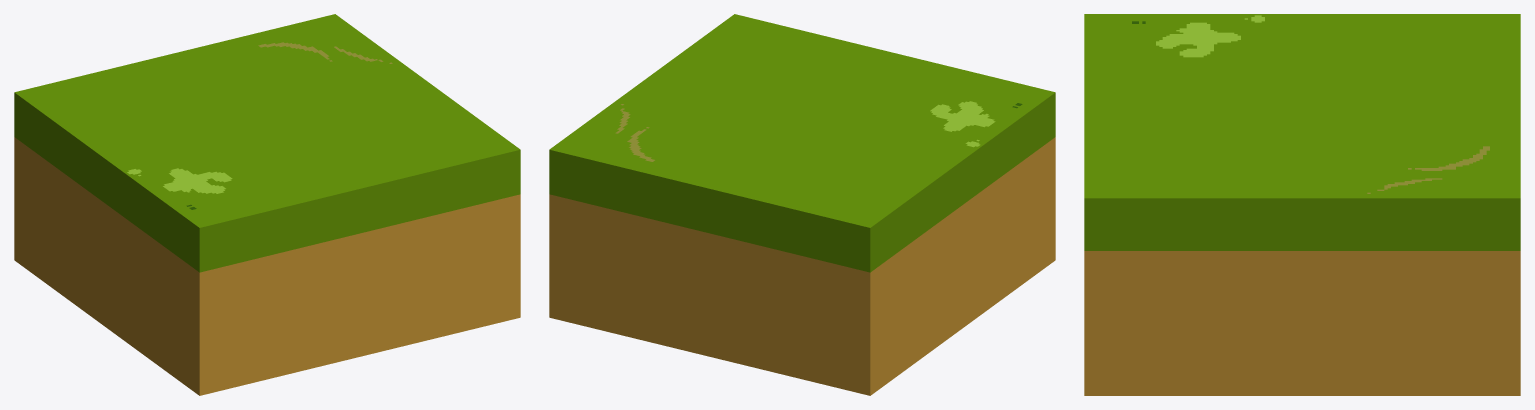
3 renders of one model, left to right at view 1: azimuth 30°, elevation 25°; view 2: azimuth 150°, elevation 25°; view 3: azimuth 270°, elevation 25°, orthographic. The views are drawn at different scales.
Parts seen in each view (by area): view 1: 12M; view 2: 12M; view 3: 12M.
Part boxes in pixels (x1,y1,x2,y2): 12M: (14,14,520,395); 12M: (549,14,1055,395); 12M: (1084,14,1520,395).
Bounding box in the file's own units: 12.8 × 6.4 × 12.8.
Materials: 1 (1 with a texture image).
